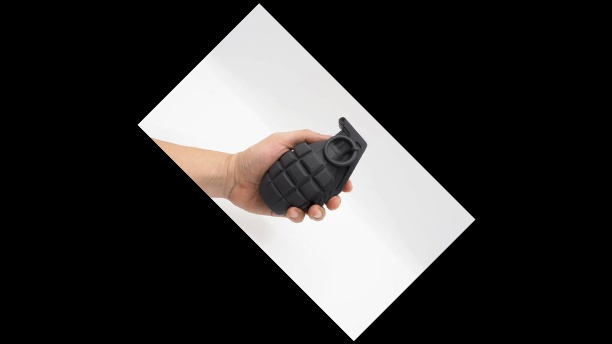e1: (259, 117, 366, 213)
